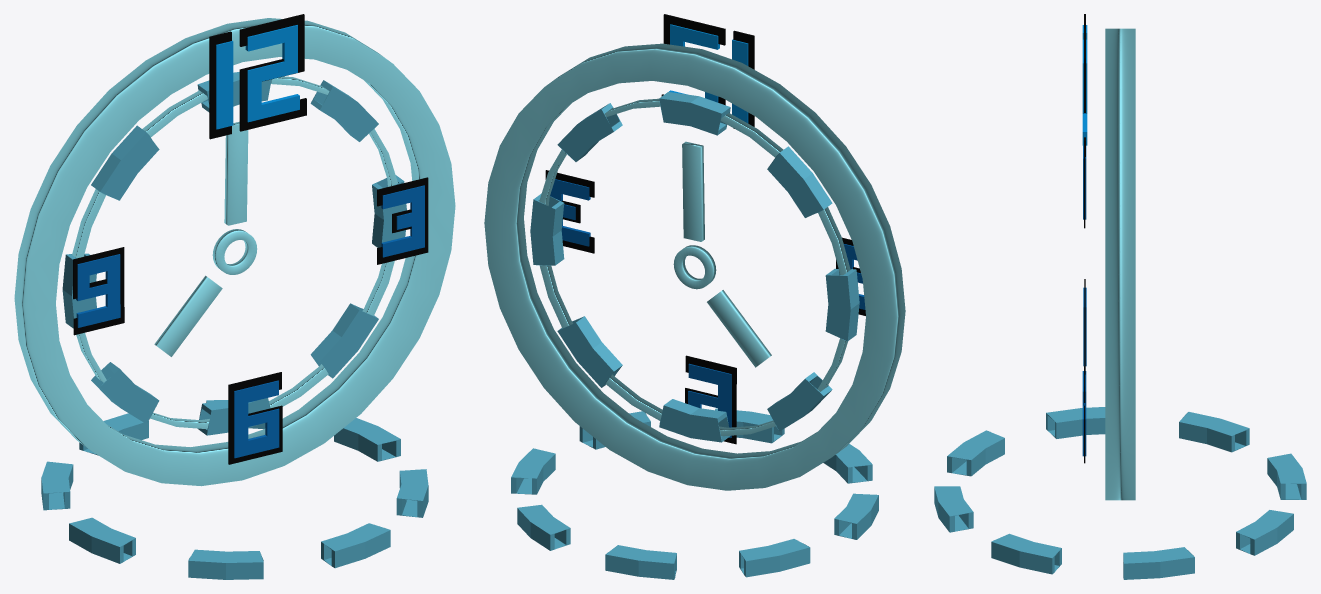
File: HologramClock.fbx
3 renders of one model, left to right at view 1: azimuth 30°, elevation 25°; view 2: azimuth 150°, elevation 25°; view 3: azimuth 270°, elevation 25°, orthographic. The views are drawn at different scales.
Parts seen in each view (by area): view 1: Cylinder, Cylinder.001, Cylinder.004, Cylinder.003, MinuteHand, HourHand, Twelve.002, Cylinder.002, Twelve.001, Twelve.003, Six.002, Twelve.008 (+7 smaller); view 2: Cylinder, Cylinder.001, Cylinder.004, Cylinder.003, MinuteHand, HourHand, Cylinder.002, Twelve.003, Twelve.008, Six.001, Twelve.002; view 3: Cylinder, Cylinder.004.
Boxes of the visible parts, bbox=[...] form: Cylinder: bbox=[14, 18, 455, 486]; Cylinder.001: bbox=[62, 72, 406, 435]; Cylinder.004: bbox=[41, 400, 428, 579]; Cylinder.003: bbox=[72, 76, 397, 429]; MinuteHand: bbox=[224, 121, 248, 225]; HourHand: bbox=[154, 275, 222, 356]; Twelve.002: bbox=[216, 40, 233, 129]; Cylinder.002: bbox=[212, 229, 257, 274]; Twelve.001: bbox=[209, 31, 231, 139]; Twelve.003: bbox=[245, 25, 297, 51]; Six.002: bbox=[234, 402, 248, 458]; Twelve.008: bbox=[239, 14, 304, 46]; Cylinder: bbox=[484, 43, 905, 490]; Cylinder.001: bbox=[530, 92, 859, 442]; Cylinder.004: bbox=[511, 408, 878, 579]; Cylinder.003: bbox=[539, 98, 850, 436]; MinuteHand: bbox=[682, 141, 704, 241]; HourHand: bbox=[707, 290, 771, 367]; Cylinder.002: bbox=[673, 245, 716, 289]; Twelve.003: bbox=[670, 24, 719, 49]; Twelve.008: bbox=[663, 14, 725, 45]; Six.001: bbox=[688, 363, 731, 387]; Twelve.002: bbox=[732, 39, 748, 123]; Cylinder: bbox=[1105, 28, 1135, 500]; Cylinder.004: bbox=[934, 407, 1306, 579].
Size of the model in its own units: 203 by 221 by 160.
